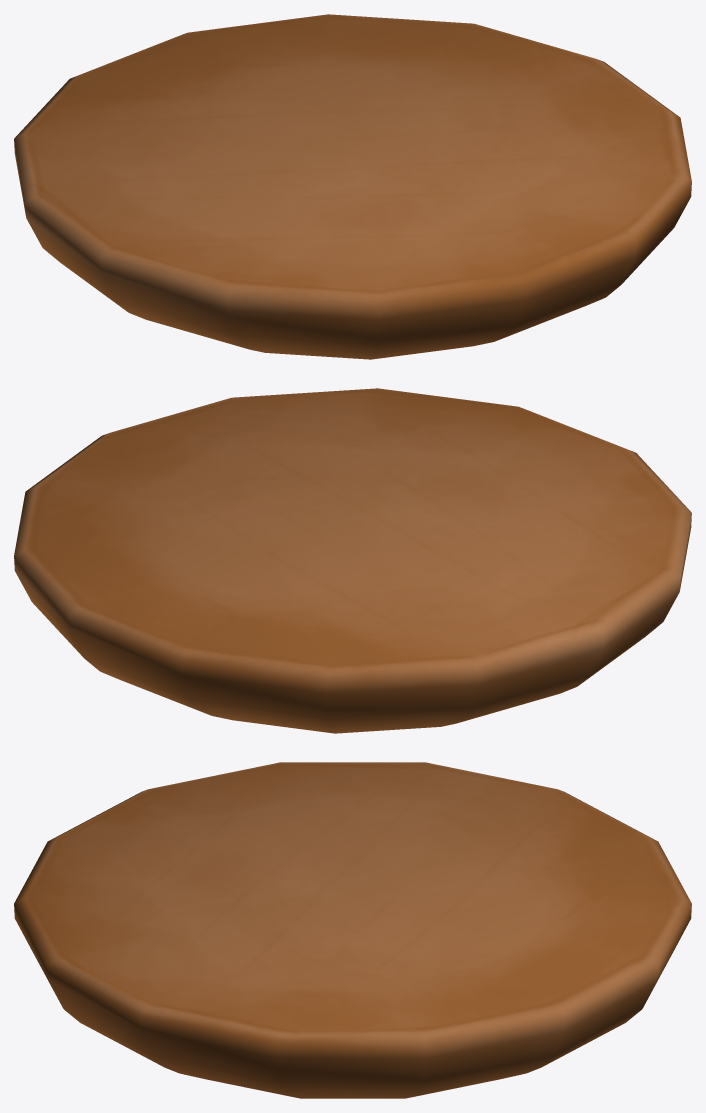
File: MSH_Pan_Base.fbx
3 renders of one model, top to bottom at view 1: azimuth 30°, elevation 25°; view 2: azimuth 150°, elevation 25°; view 3: azimuth 270°, elevation 25°, orthographic.
Parts seen in each view (by area): view 1: MSH_Pan_Base; view 2: MSH_Pan_Base; view 3: MSH_Pan_Base.
Part boxes in pixels (x1=…): MSH_Pan_Base: x1=14, y1=14, x2=691, y2=359; MSH_Pan_Base: x1=14, y1=388, x2=691, y2=733; MSH_Pan_Base: x1=14, y1=762, x2=691, y2=1098.
Bounding box in the file's own units: 14.42 × 14.79 × 2.67.
1 material, 1 textured.
